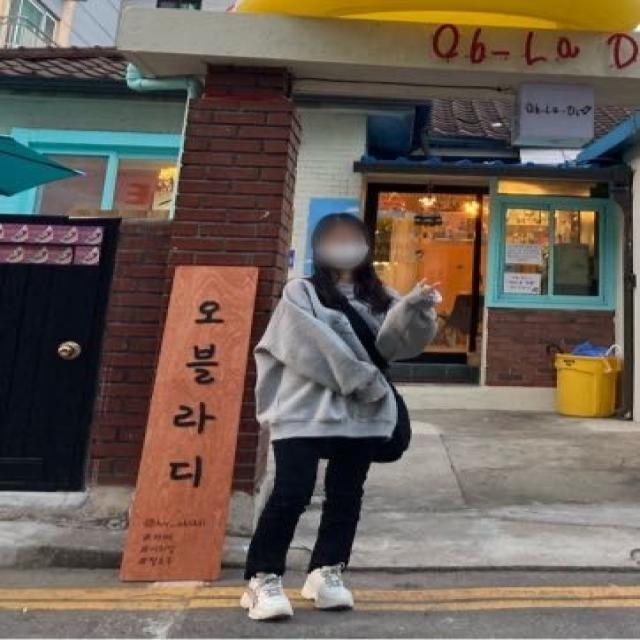denimpants: (244, 430, 372, 572)
mtm: (251, 272, 444, 440)
